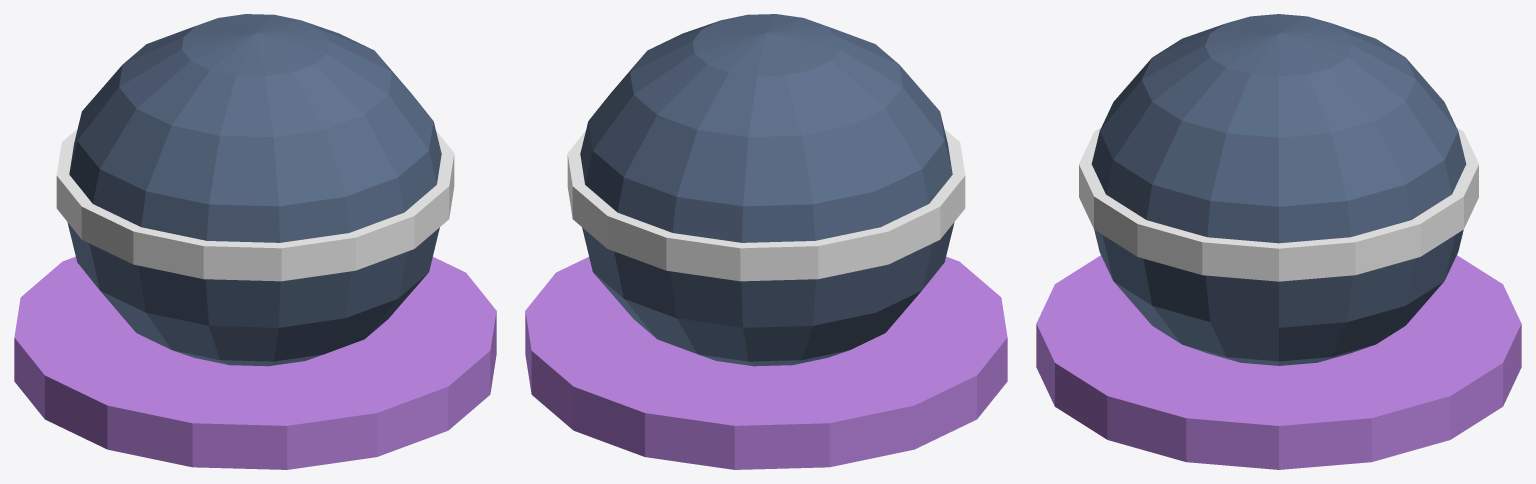
The model's file is SM_Cam_TrapCam.fbx.
The picture shows the model from 3 angles, left to right: view 1: azimuth 30°, elevation 25°; view 2: azimuth 150°, elevation 25°; view 3: azimuth 270°, elevation 25°; orthographic projection.
Parts seen in each view (by area): view 1: SM_Cam_TrapCam; view 2: SM_Cam_TrapCam; view 3: SM_Cam_TrapCam.
Boxes of the visible parts, left/top/right/bottom form: SM_Cam_TrapCam: left=14, top=14, right=496, bottom=469; SM_Cam_TrapCam: left=525, top=14, right=1007, bottom=469; SM_Cam_TrapCam: left=1036, top=14, right=1521, bottom=469.
Size of the model in its own units: 0.4 by 0.304 by 0.4.
